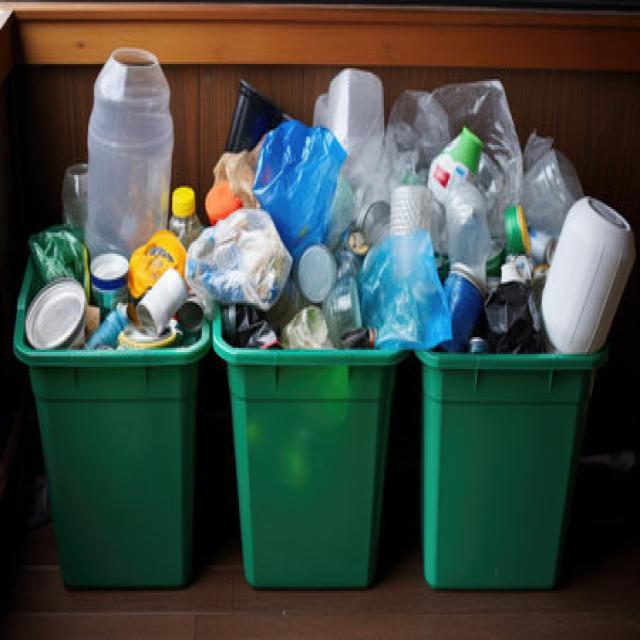metal: (31, 290, 88, 348)
plastic: (92, 38, 170, 239), (362, 244, 473, 358), (562, 185, 630, 348), (264, 124, 342, 245), (106, 250, 188, 341), (41, 239, 90, 284)
trash: (223, 267, 357, 352)
